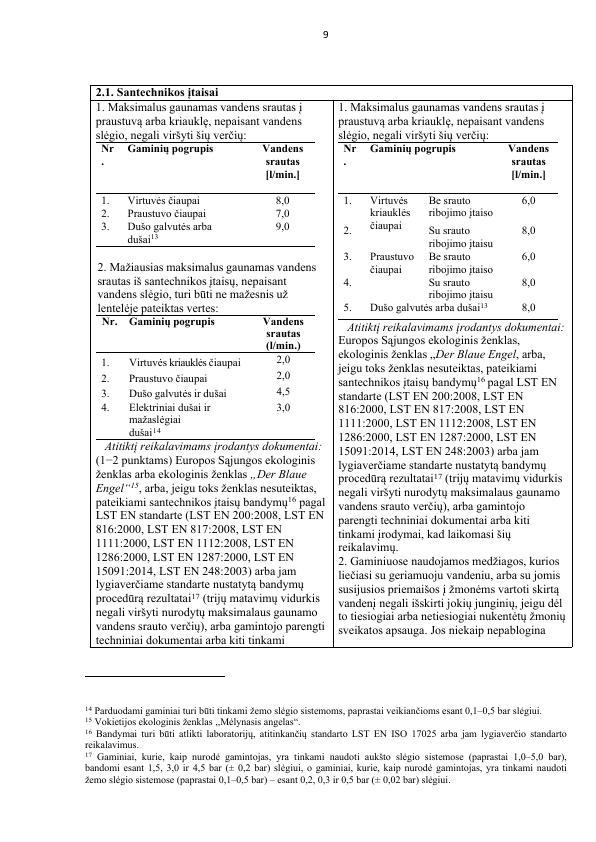table: (88, 81, 575, 651)
text: (83, 703, 571, 788)
